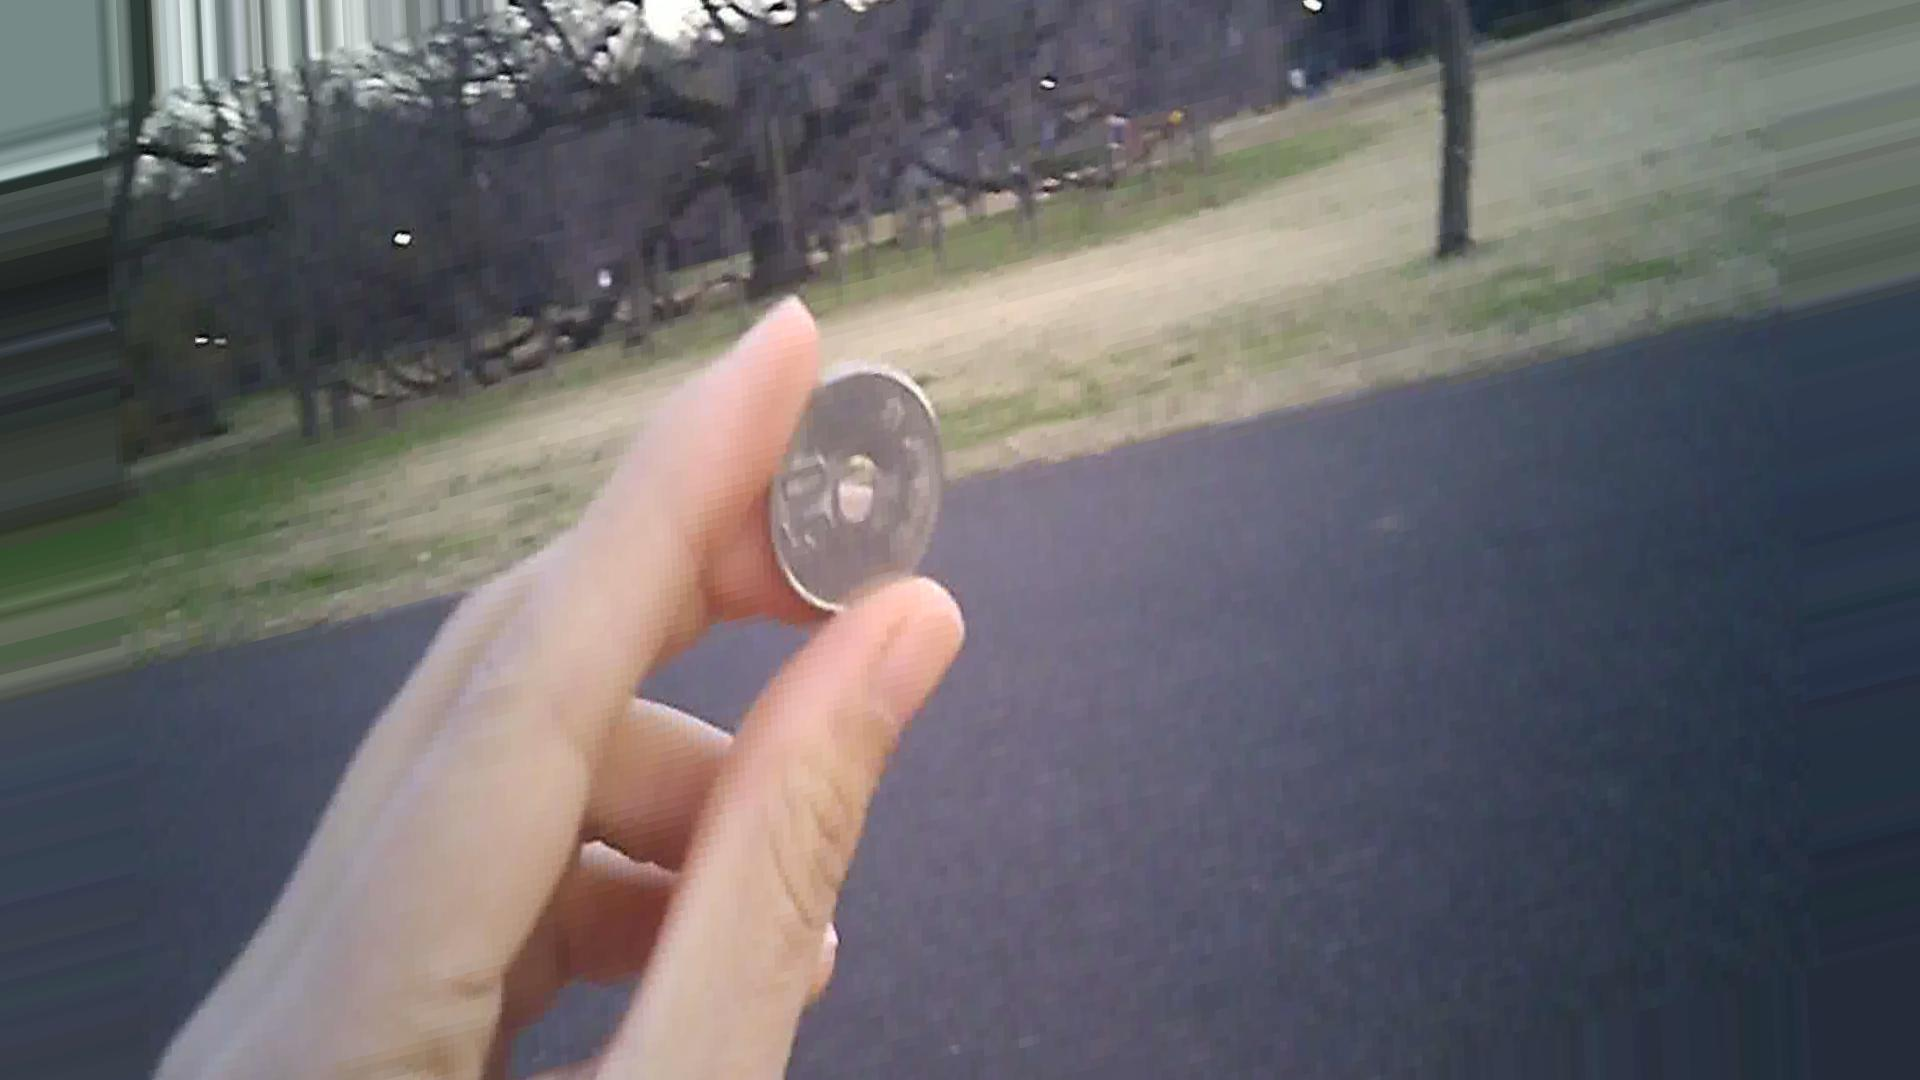50 Yen: (764, 356, 939, 615)
